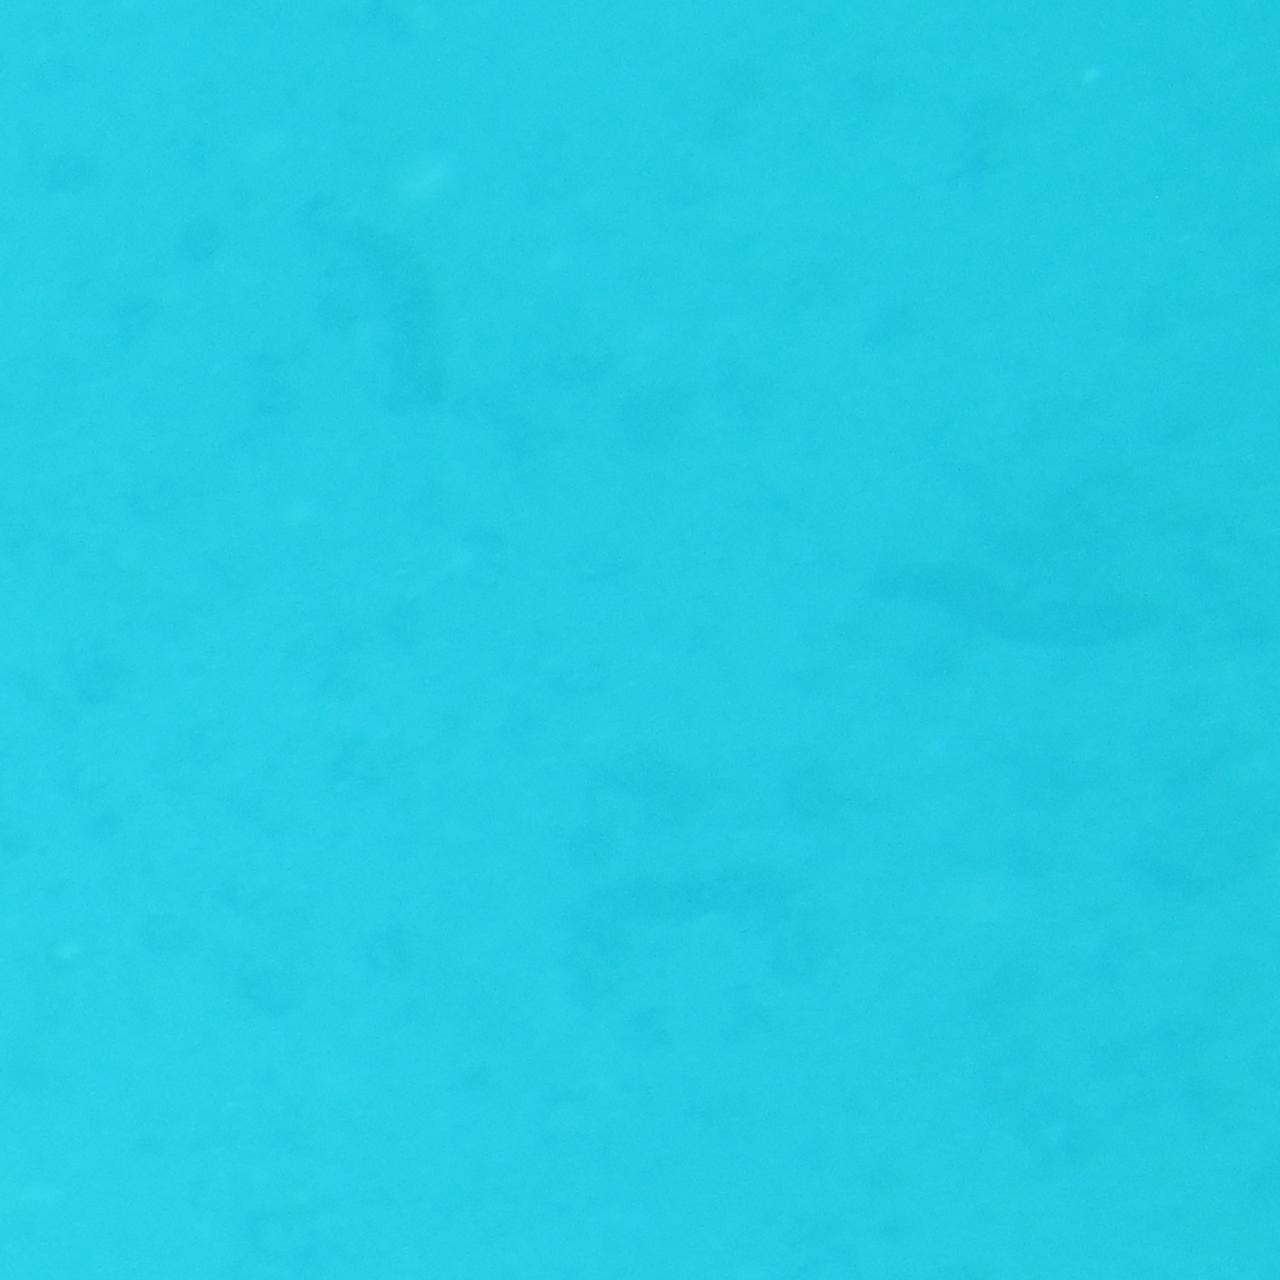Holothuria tubulosa: (286, 203, 545, 451), (880, 544, 1234, 682), (554, 885, 813, 1021)
